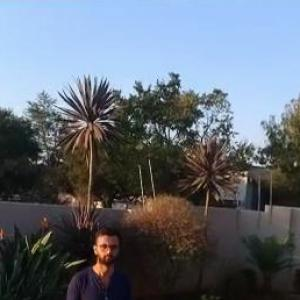follow: (61, 219, 142, 298)
